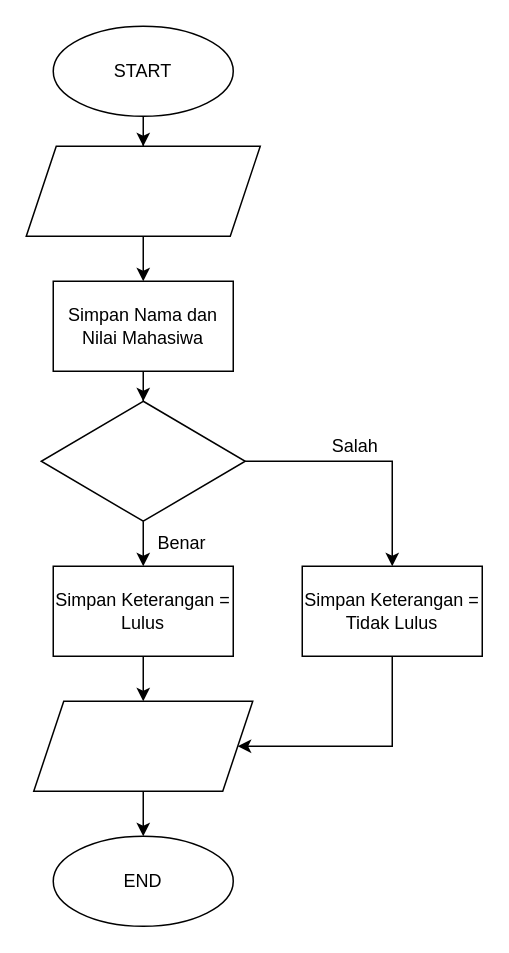
This 509x953 diagram has some shape labels left out. The shapes that lost their labels are listed below. From the top down, each one's box as (x1, y1, x2, y2) in pixels, then its label:
(25, 145, 260, 236): Input Nama dan Nilai Mahasiswa
(40, 400, 245, 521): Jika Nilai >=60
(32, 700, 253, 791): Output Nama dan Keterangan
